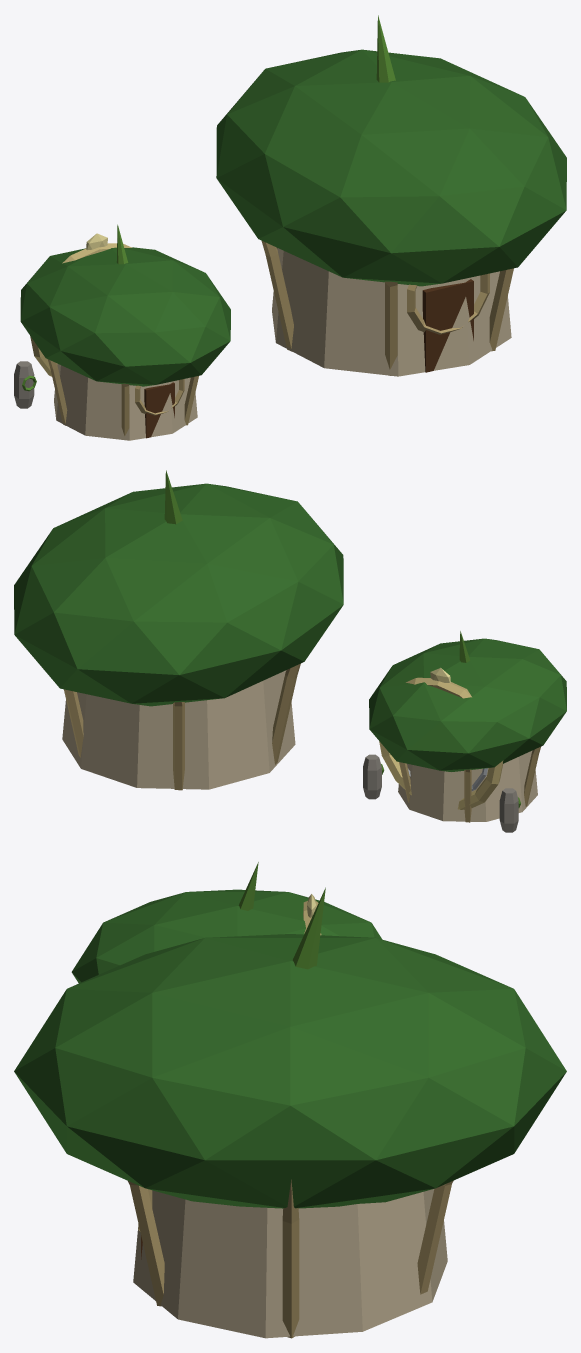
The model's file is elf_court.glb.
3 renders of one model, top to bottom at view 1: azimuth 30°, elevation 25°; view 2: azimuth 150°, elevation 25°; view 3: azimuth 270°, elevation 25°, orthographic. The views are drawn at different scales.
Parts seen in each view (by area): view 1: elf_court; view 2: elf_court; view 3: elf_court.
Boxes of the visible parts, bbox=[...] form: elf_court: bbox=[14, 15, 566, 440]; elf_court: bbox=[14, 470, 566, 832]; elf_court: bbox=[14, 862, 566, 1338].
Bounding box in the file's own units: 2.58 × 1.45 × 1.87.
